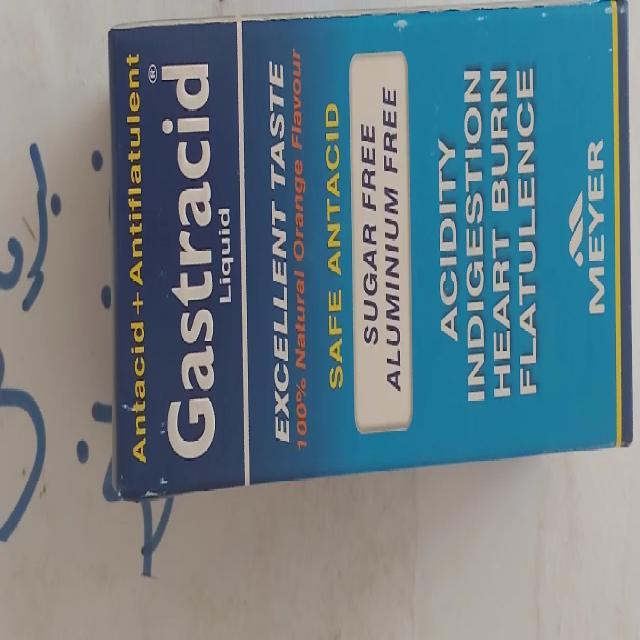drug-name: (156, 51, 217, 464)
